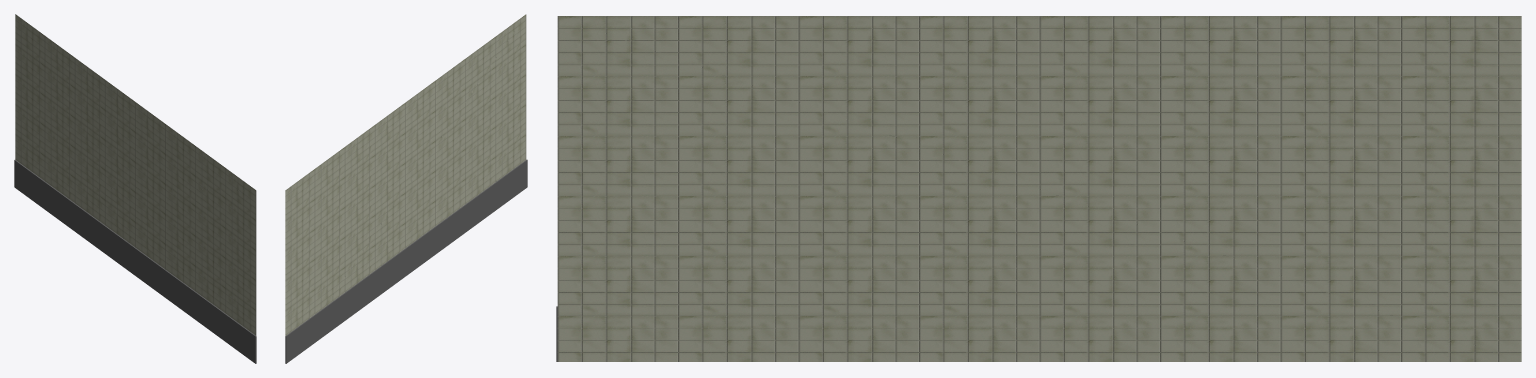
File: rightWall.fbx
3 views of the same model, side by side, from view 1: azimuth 30°, elevation 25°; view 2: azimuth 150°, elevation 25°; view 3: azimuth 270°, elevation 25° (orthographic). The views are drawn at different scales.
Parts seen in each view (by area): view 1: pPlane4, pCube32; view 2: pPlane4, pCube32; view 3: pPlane4.
Boxes of the visible parts, bbox=[...] form: pPlane4: bbox=[15, 14, 256, 335]; pCube32: bbox=[14, 159, 256, 363]; pPlane4: bbox=[285, 14, 526, 335]; pCube32: bbox=[285, 159, 527, 363]; pPlane4: bbox=[557, 16, 1521, 361].
Bounding box in the file's own units: 0.783 × 130 × 328.
2 materials, 1 textured.
